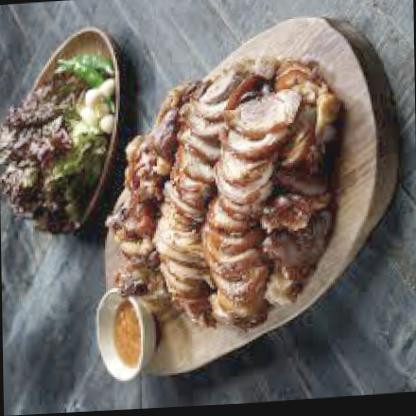pig hocks: (132, 82, 312, 312)
